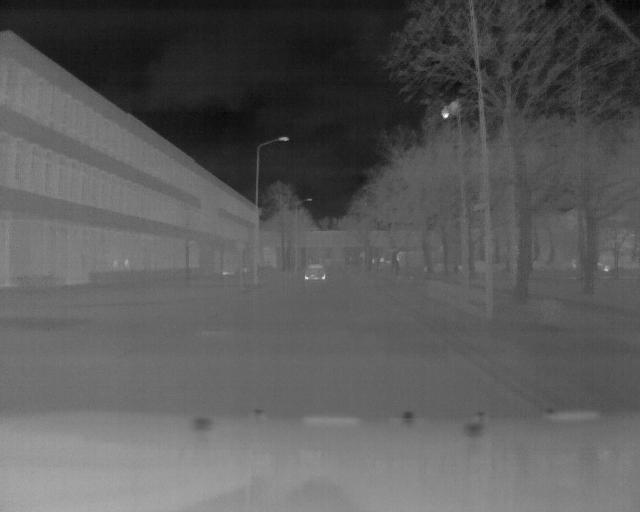car: (302, 260, 327, 282)
